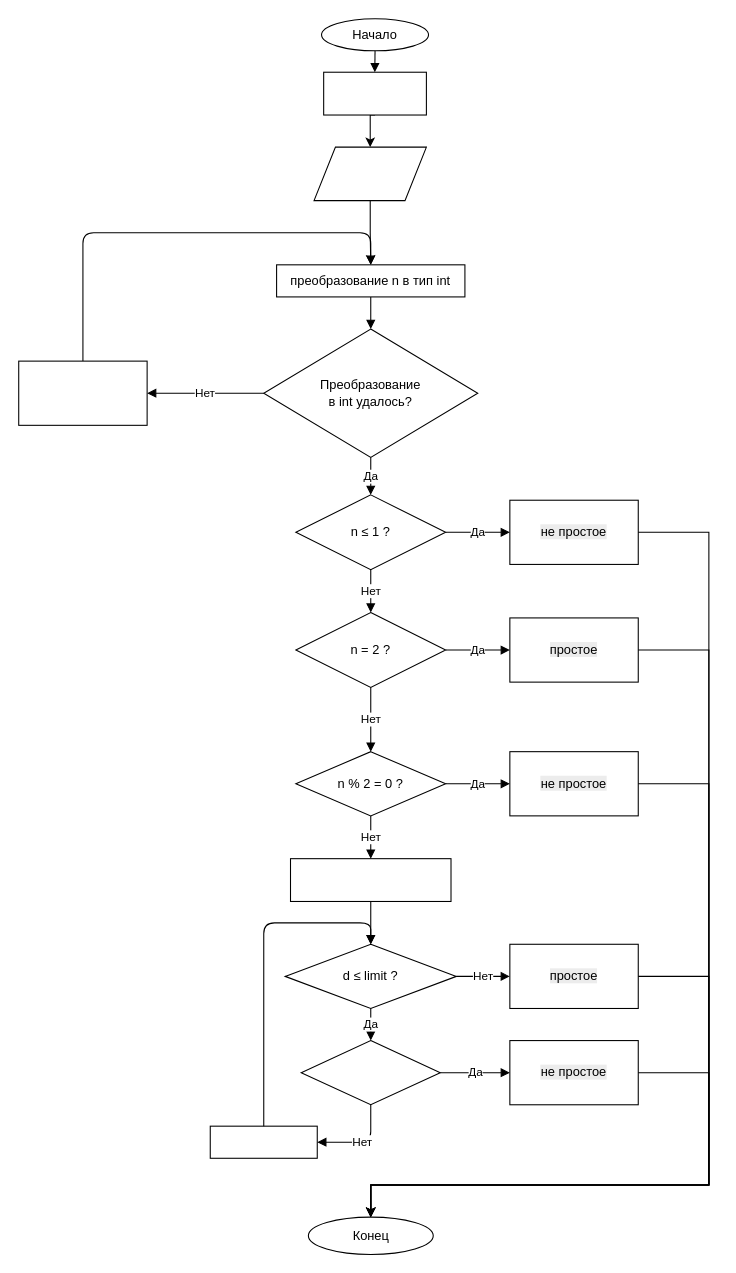
Image size: 736x1273. Some labels were removed from this diagram. The centre of each missing label's shape, as x and y in pixels:
d = d + 2: point 263,1141
limit = ⌊sqrt(n)⌋ d = 3: point 370,879
n % d = 0 ?: point 370,1072
Введите число: point 374,93
Ввод числа n: point 369,173
ошибка ввода: point 82,392
